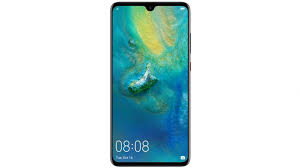huawei: (105, 1, 193, 167)
